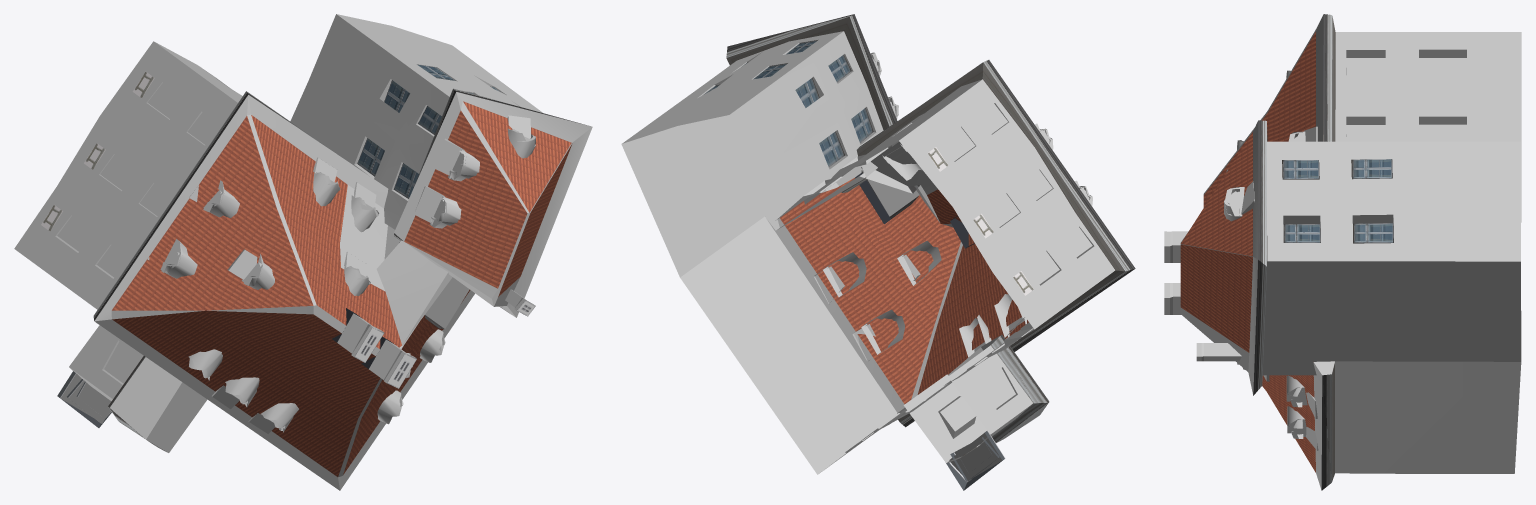
Rendered from Rahukohtu_4-origo.obj.
3 views of the same model, side by side, from view 1: azimuth 30°, elevation 25°; view 2: azimuth 150°, elevation 25°; view 3: azimuth 270°, elevation 25° (orthographic). The views are drawn at different scales.
Parts seen in each view (by area): view 1: Rahukohtu_4; view 2: Rahukohtu_4; view 3: Rahukohtu_4.
Part boxes in pixels (box(x1,y1,x2,y2)): Rahukohtu_4: box(14, 14, 592, 490); Rahukohtu_4: box(621, 14, 1135, 490); Rahukohtu_4: box(1164, 14, 1521, 490).
Size of the model in its own units: 28.75 by 24.5 by 18.4.
